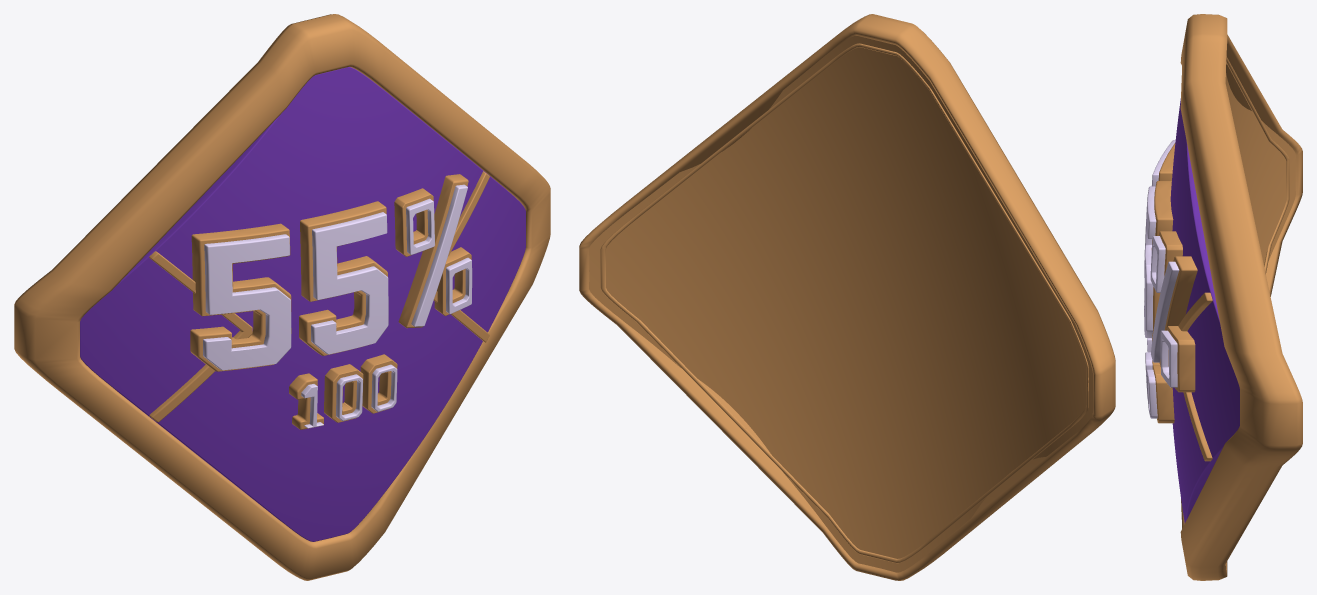
Rendered from consistent.glb.
3 views of the same model, side by side, from view 1: azimuth 30°, elevation 25°; view 2: azimuth 150°, elevation 25°; view 3: azimuth 270°, elevation 25° (orthographic).
Parts seen in each view (by area): view 1: acrylic_diamond_face_conforming_006, metal_diamond_frame_006, ivory_number_55pct_0_0_conforming, ivory_number_55pct_1_0_conforming, metal_number_55pct_0_0_conforming, metal_number_55pct_1_0_conforming, metal_number_55pct_2_2_conforming, ivory_number_55pct_2_2_conforming, metal_diamond_divider_left1_conforming_006, metal_number_55pct_2_0_conforming, metal_number_100_1_0_conforming, metal_number_100_2_0_conforming (+7 smaller); view 2: satin_diamond_back_conforming_006, metal_diamond_frame_006, satin_diamond_rear_border_006; view 3: metal_diamond_frame_006, acrylic_diamond_face_conforming_006, satin_diamond_back_conforming_006, metal_number_55pct_2_2_conforming, ivory_number_55pct_1_0_conforming, metal_number_55pct_2_1_conforming, metal_diamond_divider_1_conforming_006, ivory_number_55pct_2_2_conforming, metal_number_55pct_1_0_conforming, satin_diamond_rear_border_006, ivory_number_55pct_2_1_conforming, metal_number_100_2_0_conforming (+5 smaller).
Boxes of the visible parts, x1,y1,x2,y2 form: acrylic_diamond_face_conforming_006: [80, 67, 525, 541]; metal_diamond_frame_006: [14, 14, 550, 580]; ivory_number_55pct_0_0_conforming: [203, 234, 291, 370]; ivory_number_55pct_1_0_conforming: [311, 212, 388, 354]; metal_number_55pct_0_0_conforming: [190, 223, 291, 371]; metal_number_55pct_1_0_conforming: [299, 201, 387, 355]; metal_number_55pct_2_2_conforming: [398, 174, 468, 328]; ivory_number_55pct_2_2_conforming: [411, 184, 467, 326]; metal_diamond_divider_left1_conforming_006: [149, 251, 252, 422]; metal_number_55pct_2_0_conforming: [394, 188, 433, 256]; metal_number_100_1_0_conforming: [324, 364, 363, 422]; metal_number_100_2_0_conforming: [360, 354, 397, 413]; satin_diamond_back_conforming_006: [589, 36, 1092, 572]; metal_diamond_frame_006: [579, 14, 1115, 580]; satin_diamond_rear_border_006: [600, 43, 1088, 563]; metal_diamond_frame_006: [1180, 14, 1302, 580]; acrylic_diamond_face_conforming_006: [1170, 98, 1239, 523]; satin_diamond_back_conforming_006: [1225, 73, 1295, 265]; metal_number_55pct_2_2_conforming: [1159, 256, 1197, 366]; ivory_number_55pct_1_0_conforming: [1144, 186, 1156, 337]; metal_number_55pct_2_1_conforming: [1166, 326, 1195, 392]; metal_diamond_divider_1_conforming_006: [1178, 292, 1212, 461]; ivory_number_55pct_2_2_conforming: [1151, 261, 1179, 362]; metal_number_55pct_1_0_conforming: [1151, 181, 1173, 340]; satin_diamond_rear_border_006: [1226, 57, 1289, 273]; ivory_number_55pct_2_1_conforming: [1160, 330, 1177, 387]; metal_number_100_2_0_conforming: [1153, 365, 1174, 423].
Size of the model in its own units: 2 by 2 by 0.5269.
